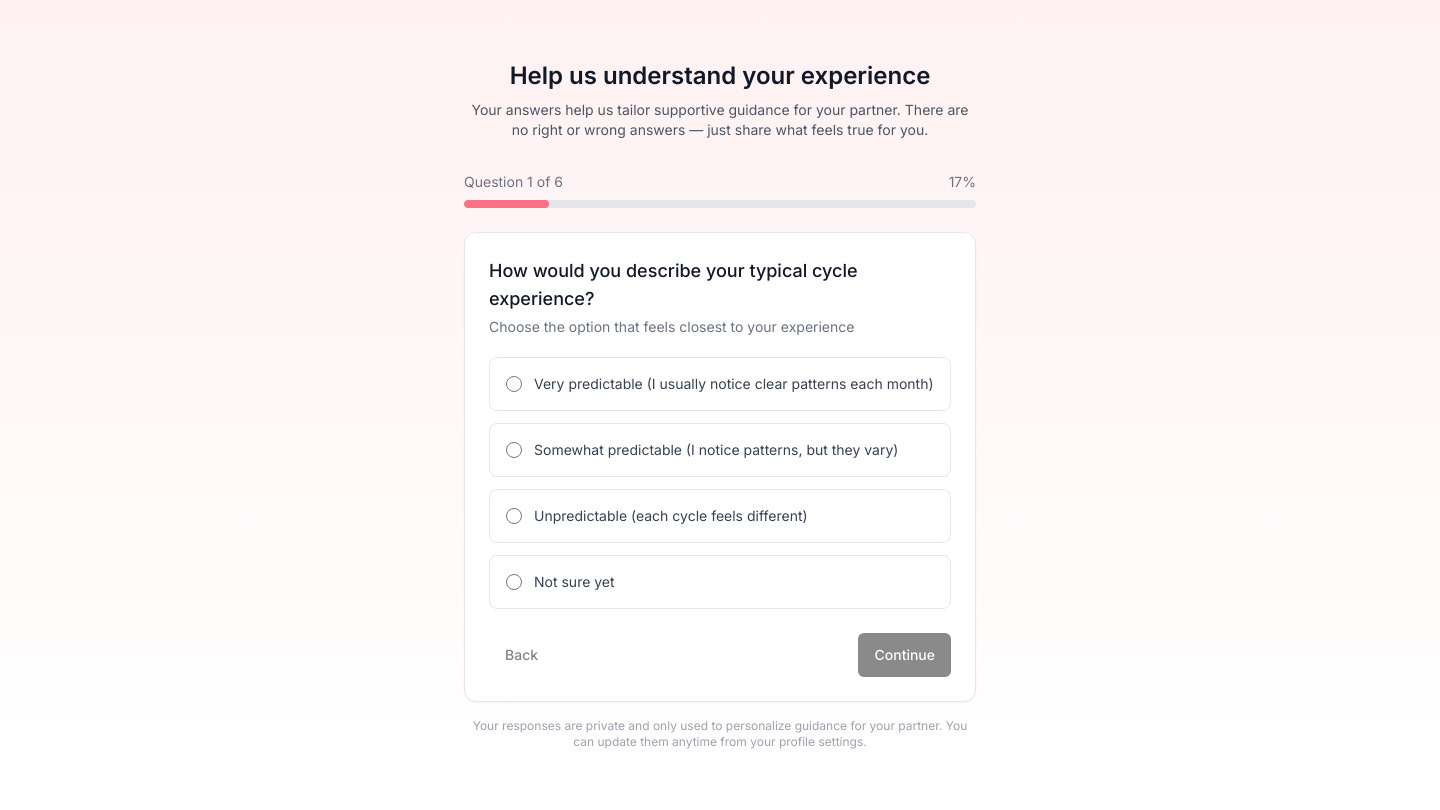
OnboardingPage › navigates back to Q1 when Back is clicked from Q2
The width and height of the screenshot is (1440, 810).
Note: Go to Q2
Click the radio button labelled "Not sure yet": [514, 582] box top-left (506, 574), bottom-right (522, 590)
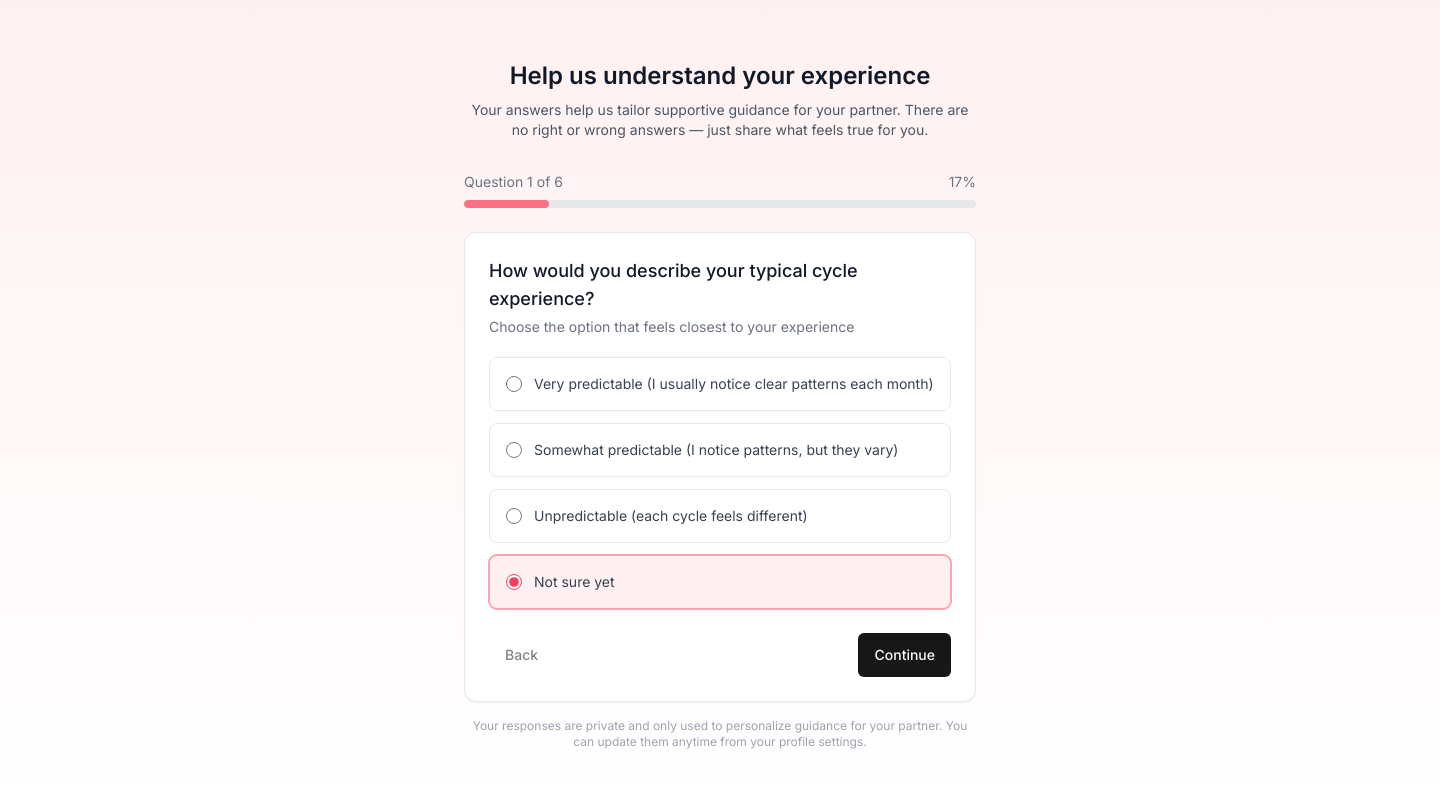
Click the button with aria-label "go to next question": [905, 655] box top-left (858, 633), bottom-right (951, 677)
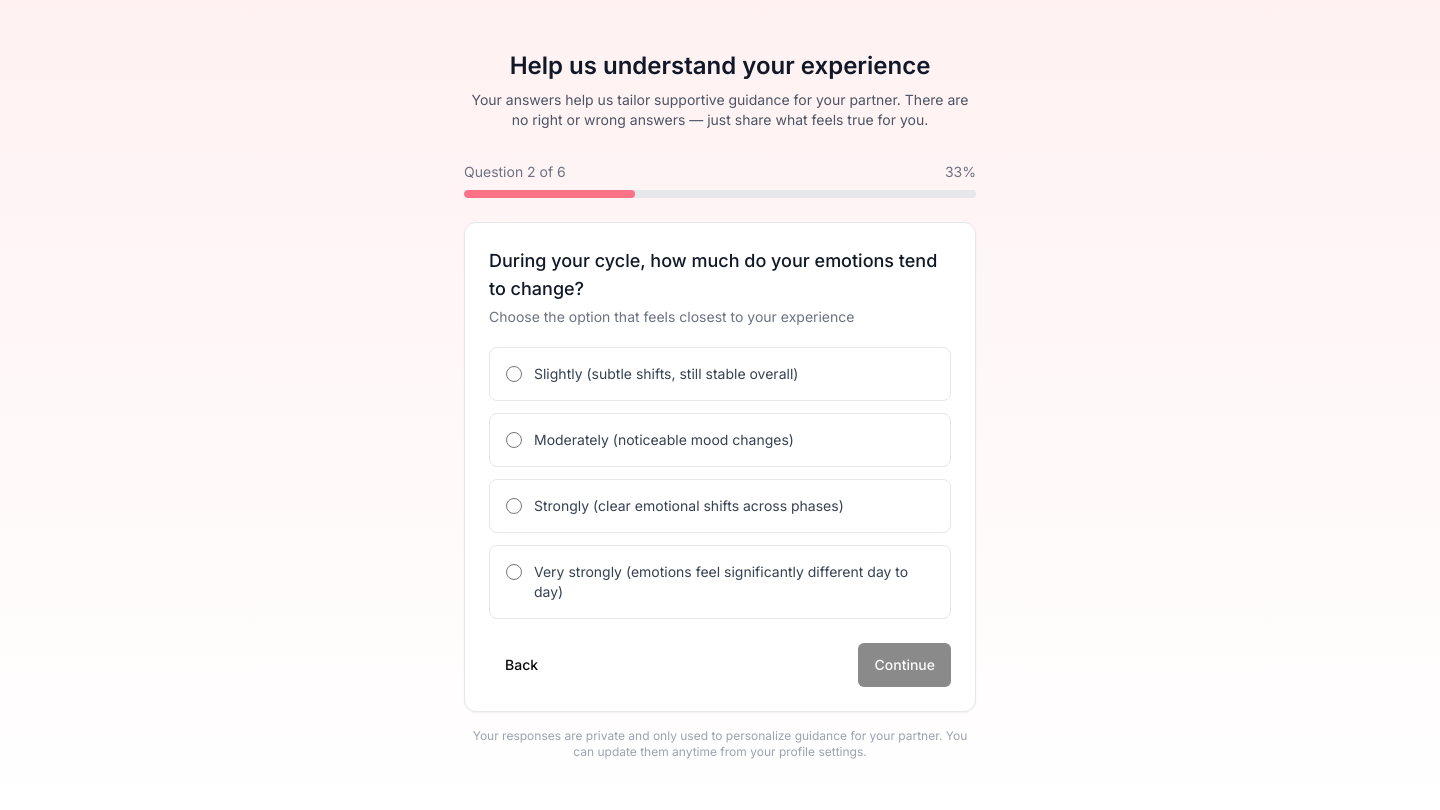
Note:  Go back
Click the button with aria-label "go to previous question": [522, 665] box top-left (489, 643), bottom-right (554, 687)
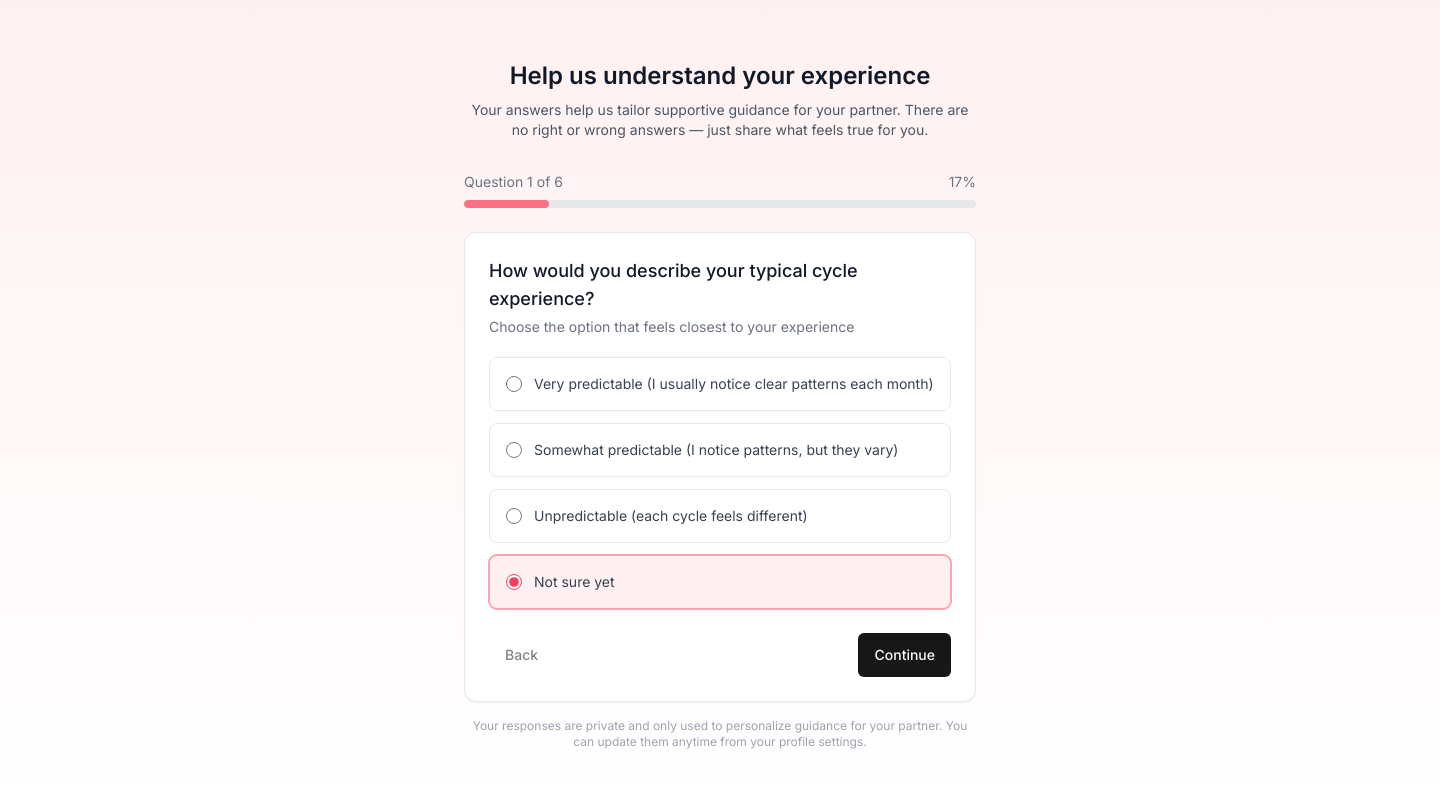
Expected: the heading "How would you describe your typical cycle experience?" is shown, top-left (489, 260), bottom-right (858, 309)
